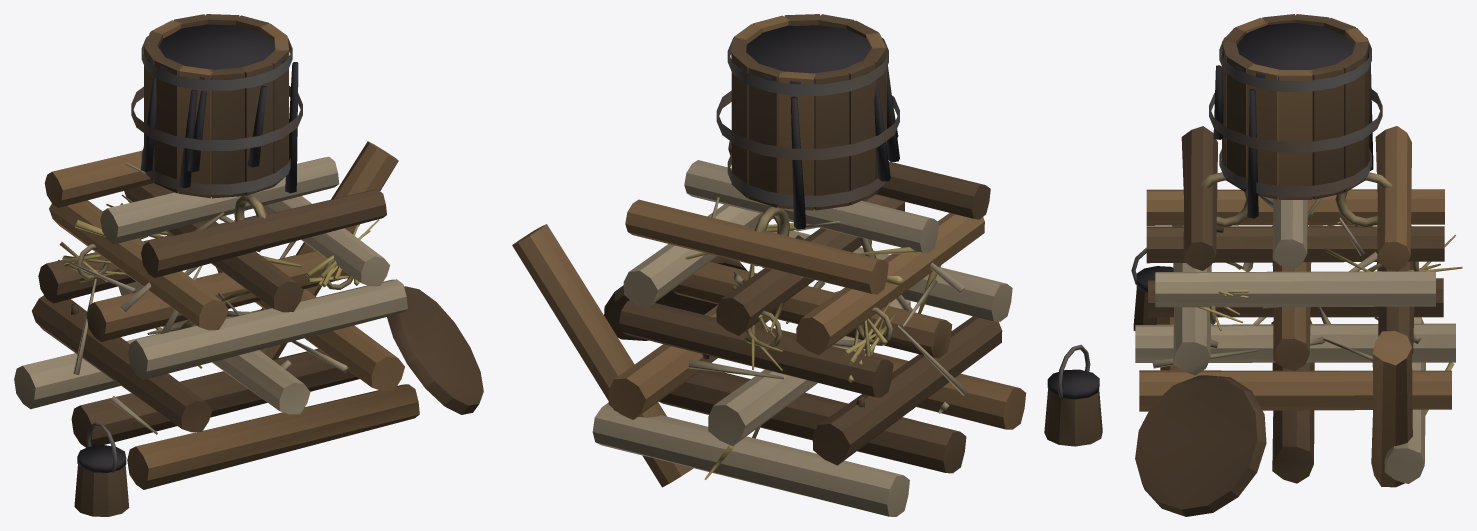
The model's file is signal_pyre.glb.
3 renders of one model, left to right at view 1: azimuth 30°, elevation 25°; view 2: azimuth 150°, elevation 25°; view 3: azimuth 270°, elevation 25°, orthographic. The views are drawn at different scales.
Visible parts, largest first — view 1: signal_pyre; view 2: signal_pyre; view 3: signal_pyre.
Part boxes in pixels (x1=…): signal_pyre: x1=14, y1=14, x2=483, y2=516; signal_pyre: x1=512, y1=14, x2=1102, y2=516; signal_pyre: x1=1131, y1=14, x2=1462, y2=516.
Bounding box in the file's own units: 2.44 × 2.13 × 1.6.
